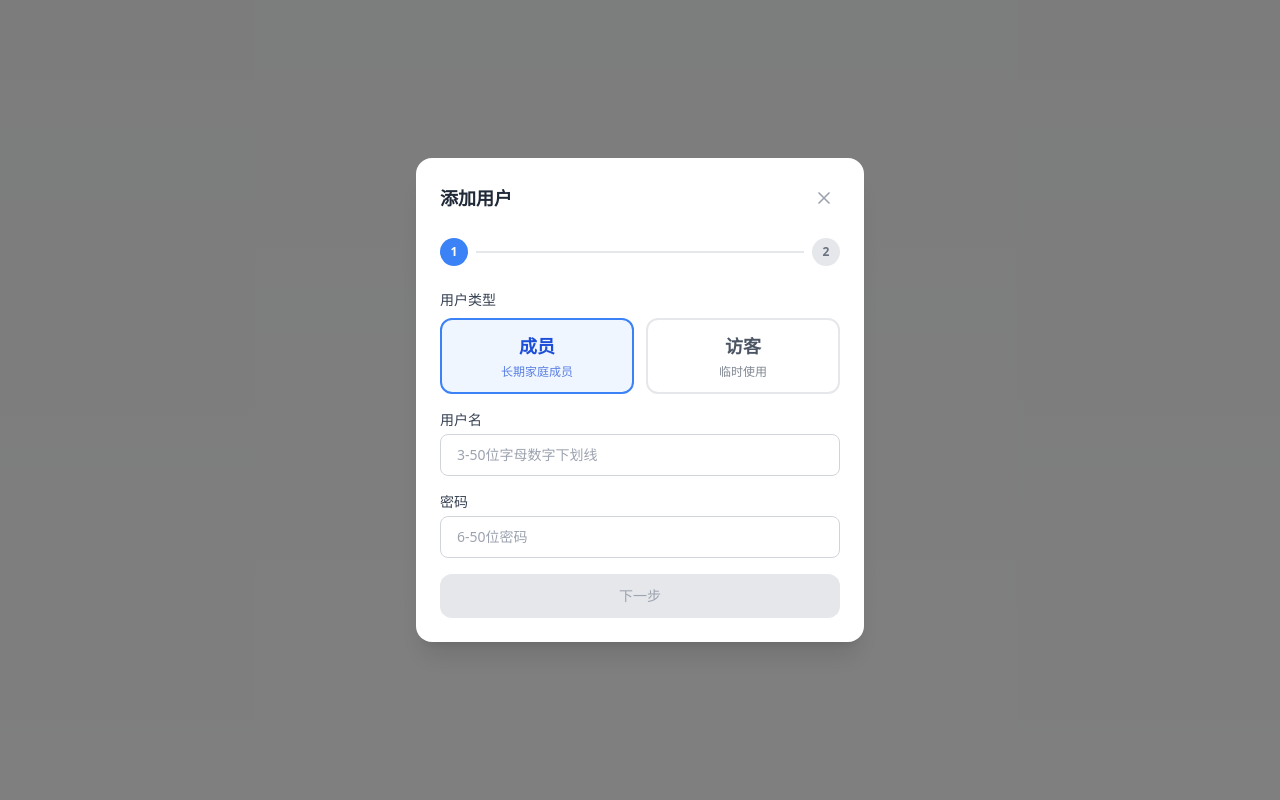
Test case: CreateMemberWizard (T049) › Step2 声纹录音界面 › 点击"上一步"应返回 Step1
Type "testuser" into the field with placeholder "3-50位字母数字下划线" at (640, 455), box [440,434,840,476]
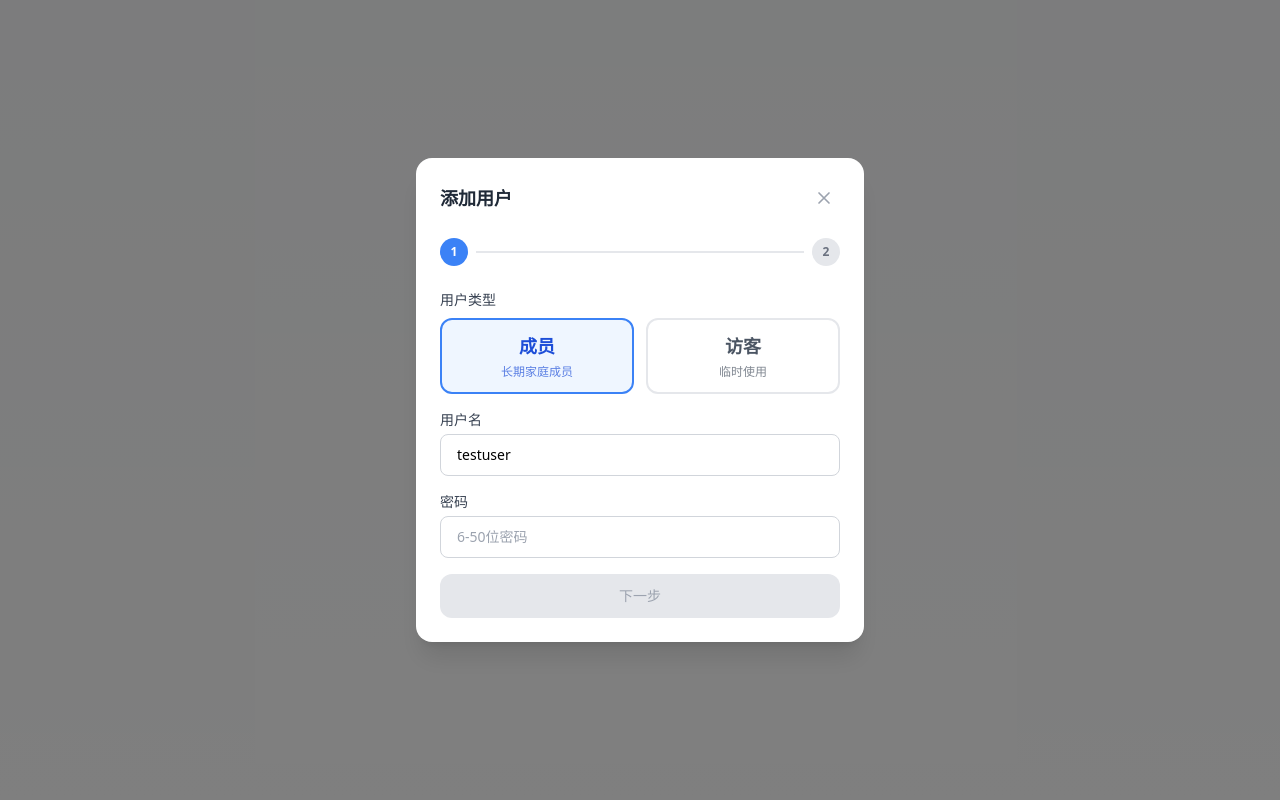
Type "password123" into the password field with placeholder "6-50位密码" at (640, 537), box [440,516,840,558]
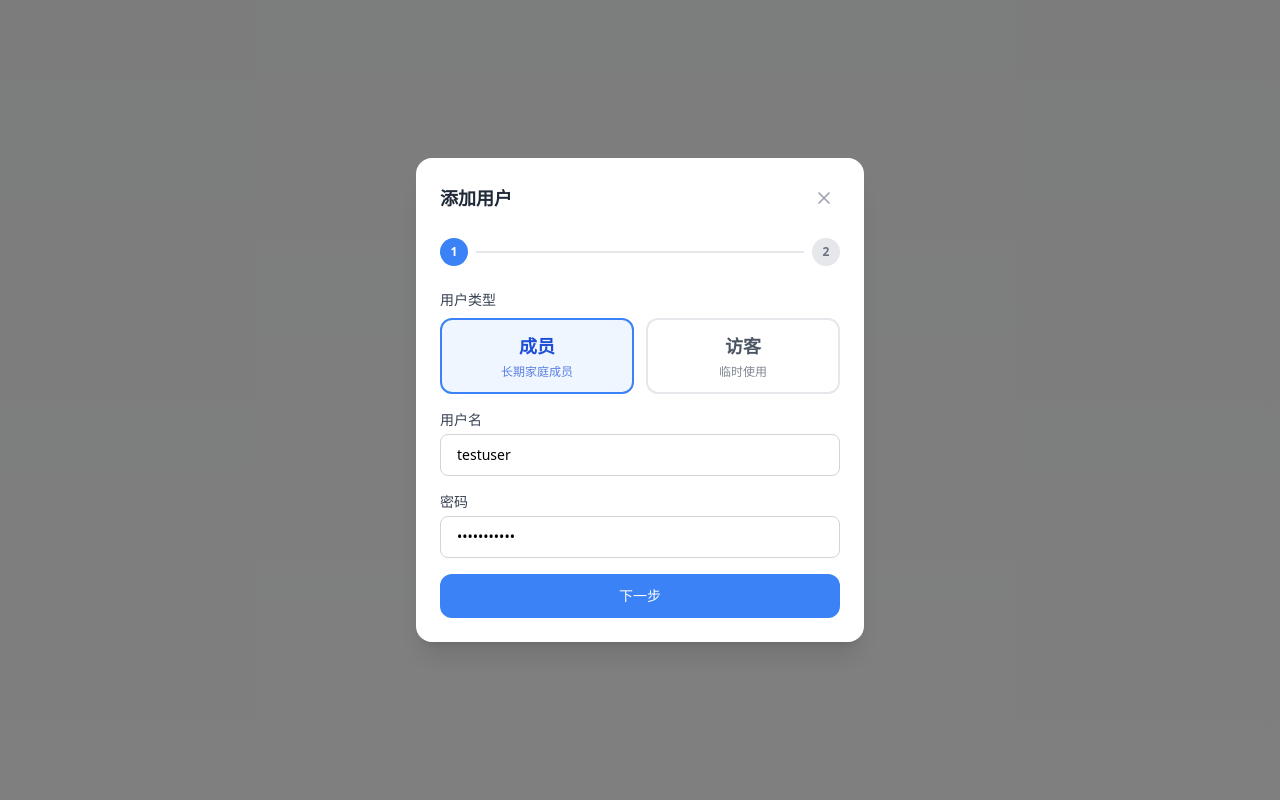
Click the button "下一步" at (640, 596), box [440,574,840,618]
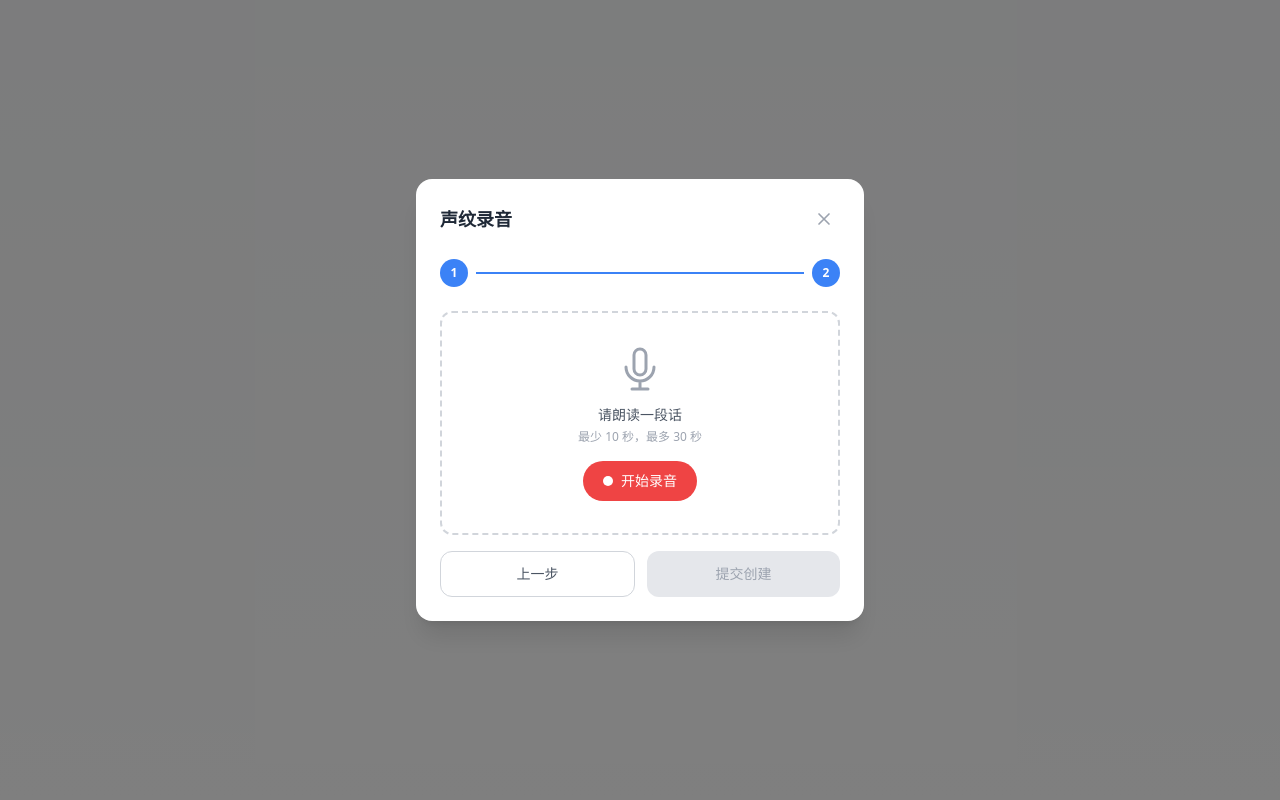
Click the button "上一步" at (538, 574), box [440,551,635,597]
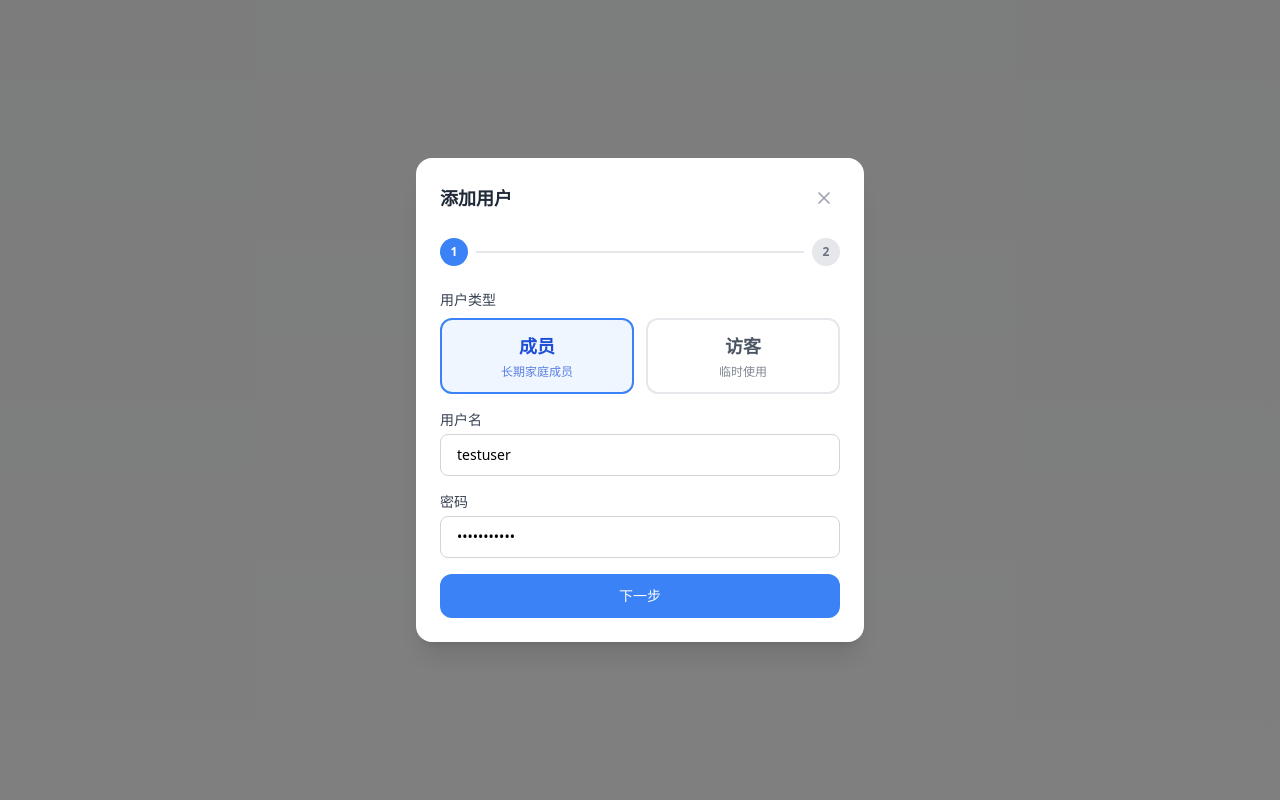
Check: the heading "添加用户" is shown, box [440,184,512,212]
